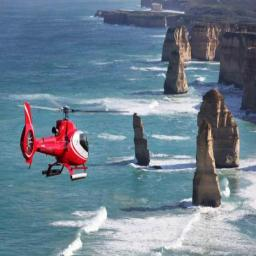helicopter: (16, 95, 130, 191)
